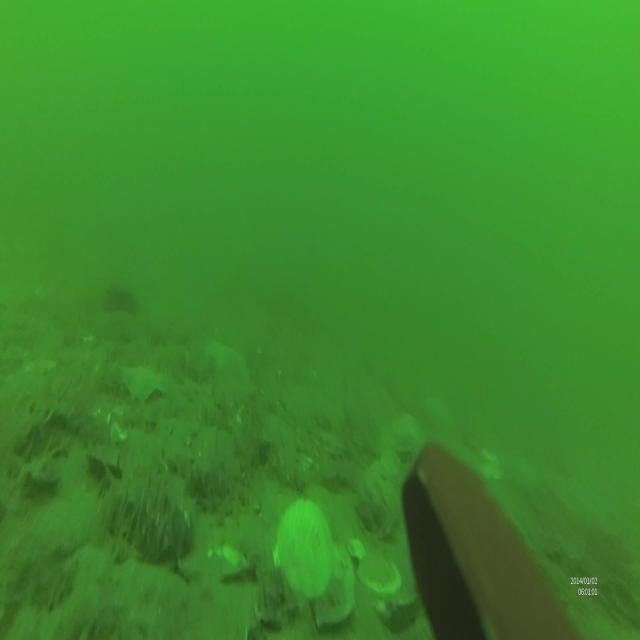scallop: (272, 500, 331, 610), (358, 552, 400, 597)
starfish: (121, 363, 167, 406)
